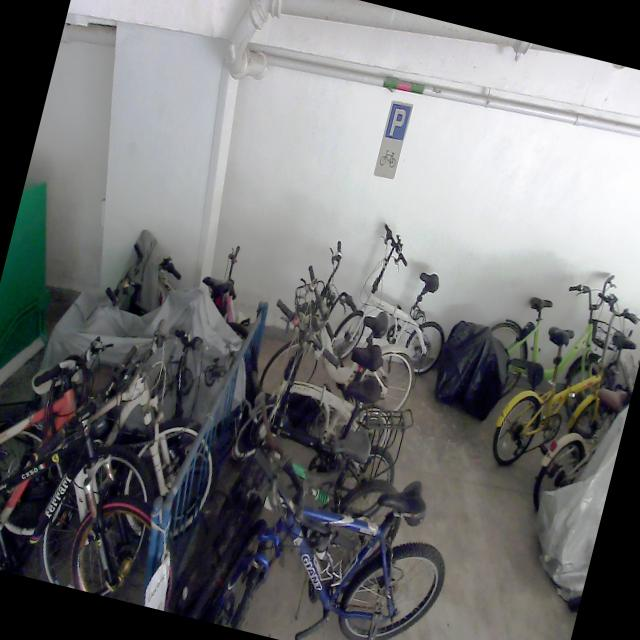bike: (0, 284, 246, 583), (182, 431, 466, 640), (0, 310, 190, 602), (216, 349, 414, 554), (256, 229, 442, 427), (230, 294, 415, 493), (467, 249, 640, 444), (487, 273, 640, 488), (328, 216, 469, 382)
